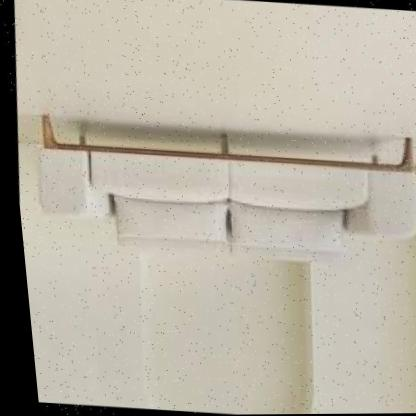Sofa: (18, 101, 416, 287)
